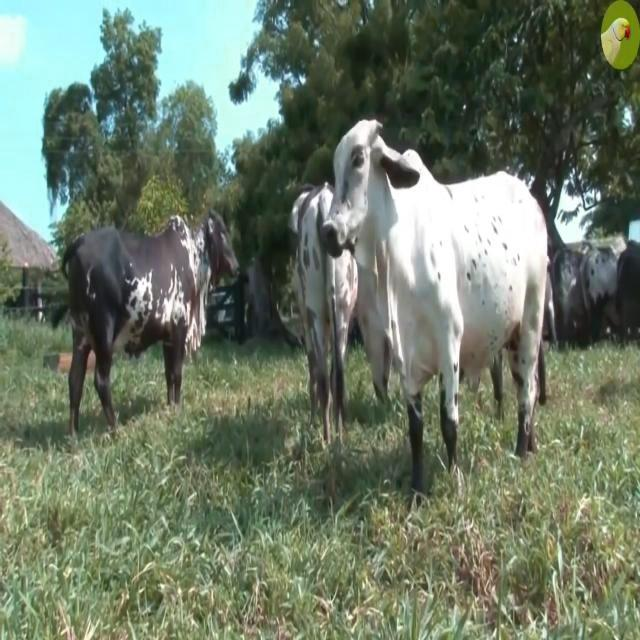cow: (324, 120, 546, 491), (64, 212, 238, 434), (290, 184, 358, 443)
